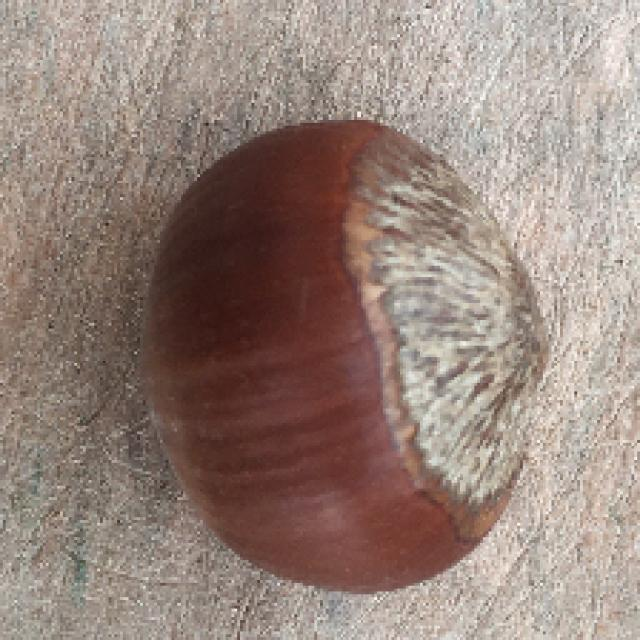qualityHazelnut: (142, 113, 554, 589)
